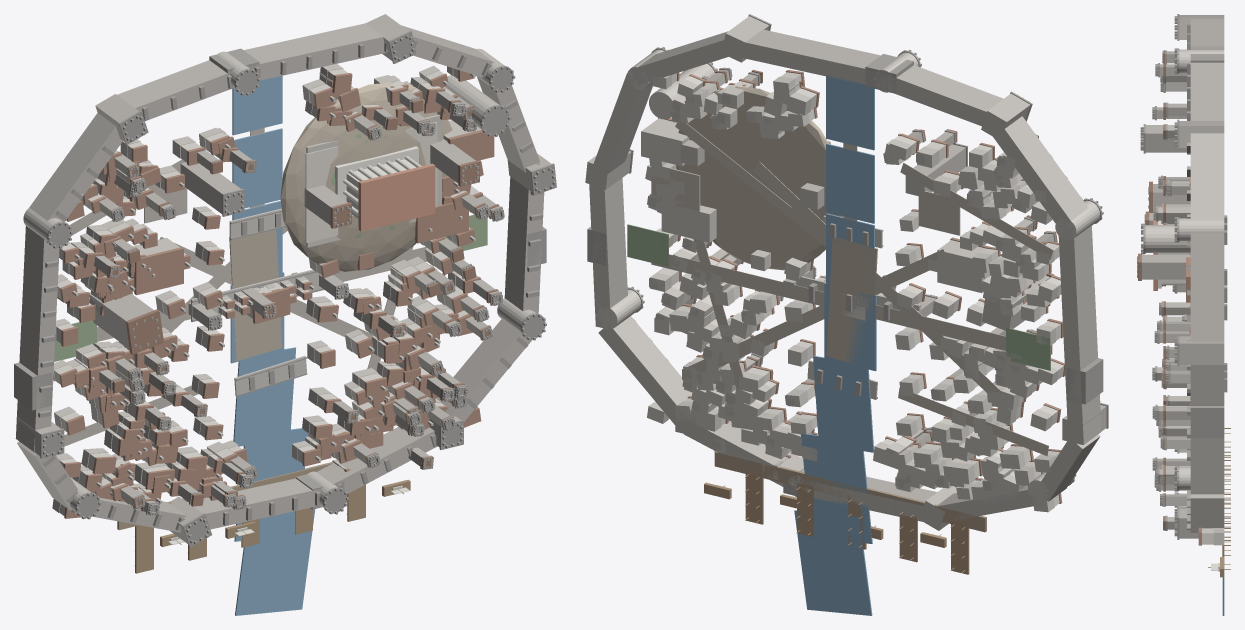
Rendered from Lake_Capital_v2_MapReady.glb.
3 views of the same model, side by side, from view 1: azimuth 30°, elevation 25°; view 2: azimuth 150°, elevation 25°; view 3: azimuth 270°, elevation 25° (orthographic). The views are drawn at different scales.
Parts seen in each view (by area): view 1: Temple_Hill, River_6, Wall_0, River_Island, Wall_3, Wall_1, GreatTemple_Roof, Wall_6, River_4, Wall_2, Wall_7, River_1 (+29 smaller); view 2: Temple_Hill, Wall_0, River_6, River_Island, River_4, Wall_3, Wall_1, Wall_6, Wall_7, River_5, Wall_2, Avenue_E_W (+39 smaller); view 3: Wall_5, Wall_6, Wall_4, Wall_3, Wall_7, TempleTower_E, SquareTower_6, EastGate, Cathedral_Tower, Wall_2, WestminsterLike_Tower, SquareTower_4 (+27 smaller).
Boxes of the visible parts, x1,y1,x2,y2 form: Temple_Hill: (280, 82, 452, 271); River_6: (235, 509, 315, 615); Wall_0: (15, 226, 59, 452); River_Island: (229, 229, 282, 361); Wall_3: (244, 23, 386, 80); Wall_1: (29, 113, 122, 221); GreatTemple_Roof: (358, 163, 435, 231); Wall_6: (504, 176, 544, 313); River_4: (233, 347, 296, 446); Wall_2: (117, 60, 229, 121); Wall_7: (436, 319, 532, 421); River_1: (232, 128, 282, 208); Temple_Hill: (676, 86, 842, 270); Wall_0: (1058, 224, 1101, 444); River_6: (794, 510, 872, 615); River_Island: (826, 237, 877, 363); River_4: (813, 355, 873, 452); Wall_3: (730, 29, 880, 88); Wall_1: (990, 116, 1088, 227); Wall_6: (589, 178, 627, 329); Wall_7: (598, 316, 692, 430); River_5: (800, 434, 872, 543); Wall_2: (880, 65, 1003, 127); Avenue_E_W: (651, 254, 1005, 350); Wall_5: (1190, 232, 1224, 341); Wall_6: (1190, 365, 1224, 494); Wall_4: (1190, 133, 1224, 219); Wall_3: (1190, 62, 1224, 120); Wall_7: (1190, 494, 1224, 532); TempleTower_E: (1142, 254, 1190, 279); SquareTower_6: (1179, 336, 1224, 364); EastGate: (1190, 406, 1224, 438); Cathedral_Tower: (1145, 225, 1190, 252); Wall_2: (1190, 19, 1224, 46); WestminsterLike_Tower: (1145, 125, 1186, 152); SquareTower_4: (1179, 121, 1224, 147).
Size of the model in its own units: 293 by 312 by 50.05.
